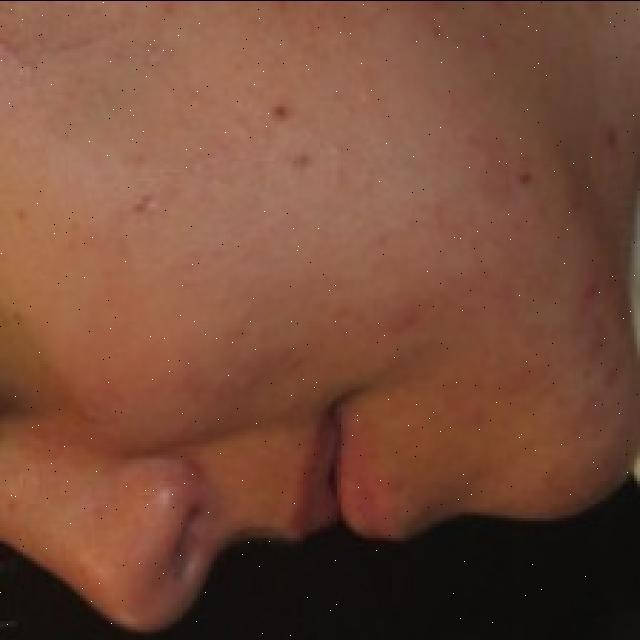Acne: (121, 94, 624, 398)
